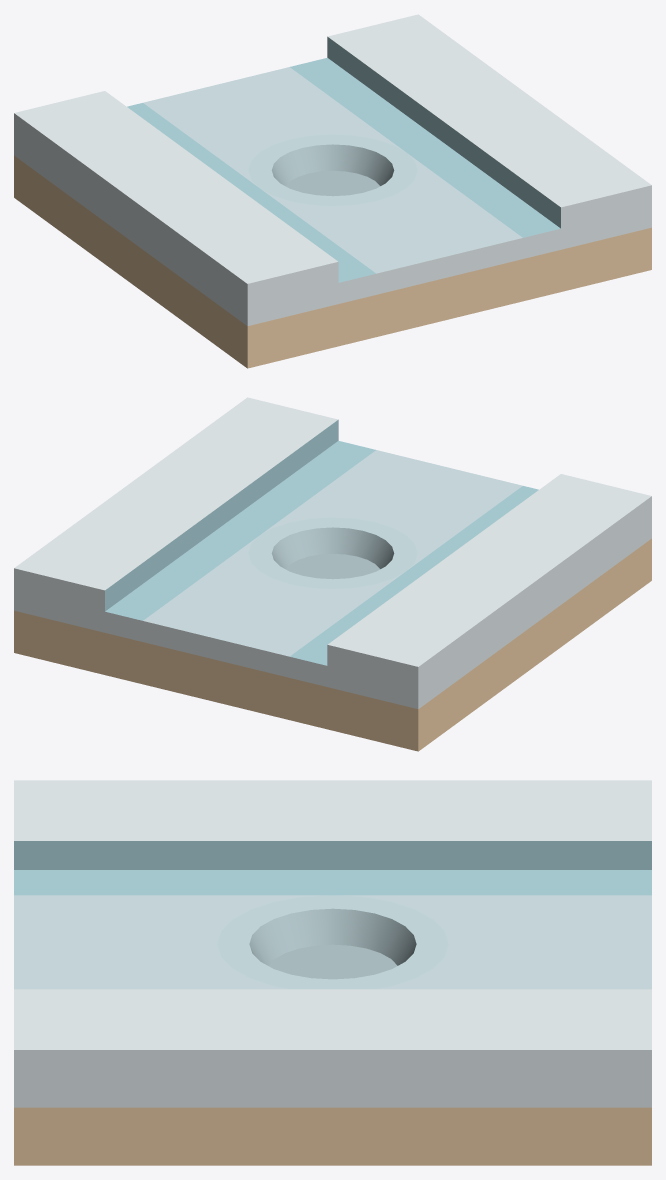
The model's file is snow_tile_spawnRound.glb.
3 views of the same model, one above another, from view 1: azimuth 30°, elevation 25°; view 2: azimuth 150°, elevation 25°; view 3: azimuth 270°, elevation 25° (orthographic). The views are drawn at different scales.
Parts seen in each view (by area): view 1: snow_tile_spawnRound; view 2: snow_tile_spawnRound; view 3: snow_tile_spawnRound.
Part boxes in pixels (left/top/right/bottom): snow_tile_spawnRound: left=14, top=14, right=651, bottom=368; snow_tile_spawnRound: left=14, top=397, right=651, bottom=751; snow_tile_spawnRound: left=14, top=780, right=651, bottom=1165.
Bounding box in the file's own units: 1 × 0.2 × 1.
